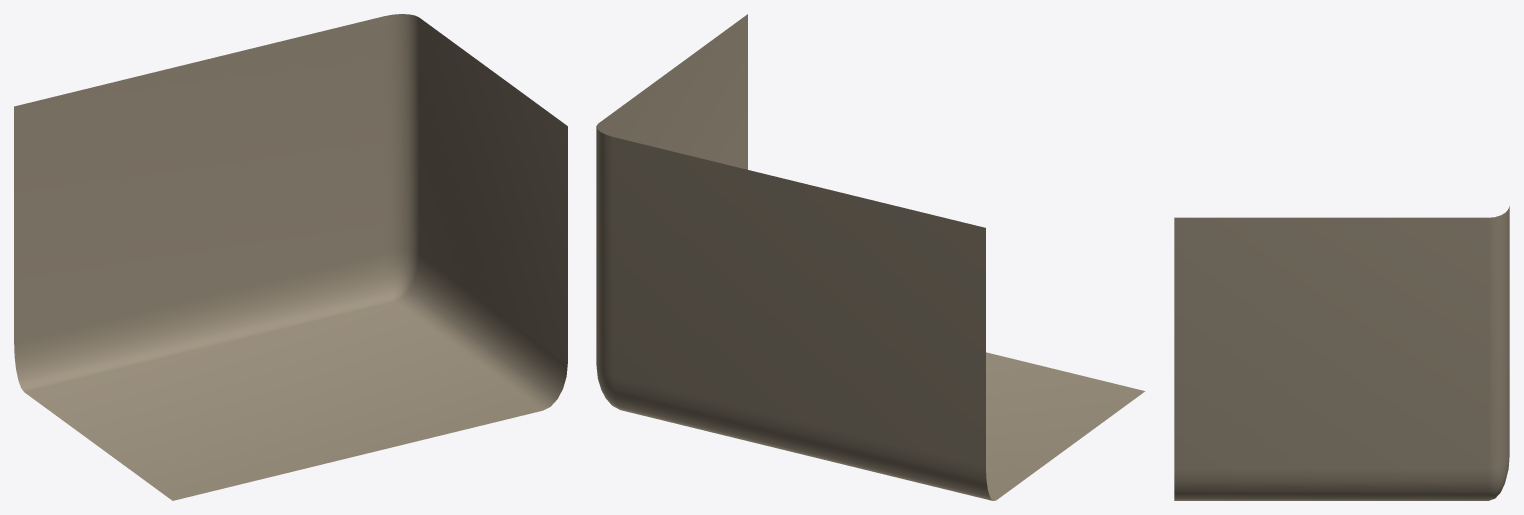
The model's file is VR-background-v1.glb.
3 renders of one model, left to right at view 1: azimuth 30°, elevation 25°; view 2: azimuth 150°, elevation 25°; view 3: azimuth 270°, elevation 25°, orthographic. The views are drawn at different scales.
Parts seen in each view (by area): view 1: Plane; view 2: Plane; view 3: Plane.
Part boxes in pixels (x1,y1,x2,y2): Plane: (14, 14, 567, 500); Plane: (596, 14, 1145, 500); Plane: (1174, 206, 1509, 500).
Bounding box in the file's own units: 445 × 300 × 310.
